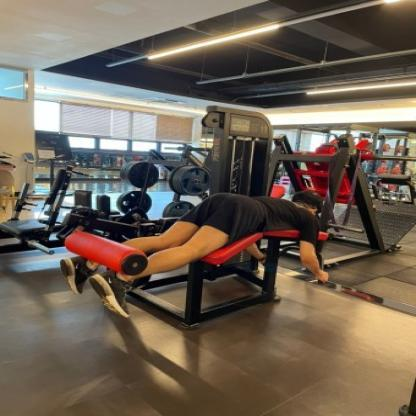reg curl machine: (57, 103, 336, 330)
